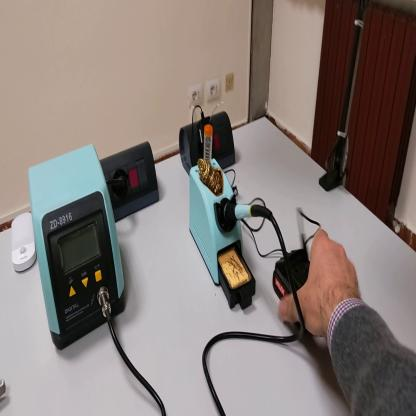electric screwdriver battery: (274, 245, 317, 339)
hand: (278, 228, 360, 340)
socket: (101, 139, 161, 222), (181, 108, 238, 182)
welder base: (188, 123, 259, 311)
welder probe tip: (219, 200, 272, 235)
welder station: (29, 147, 128, 351)
